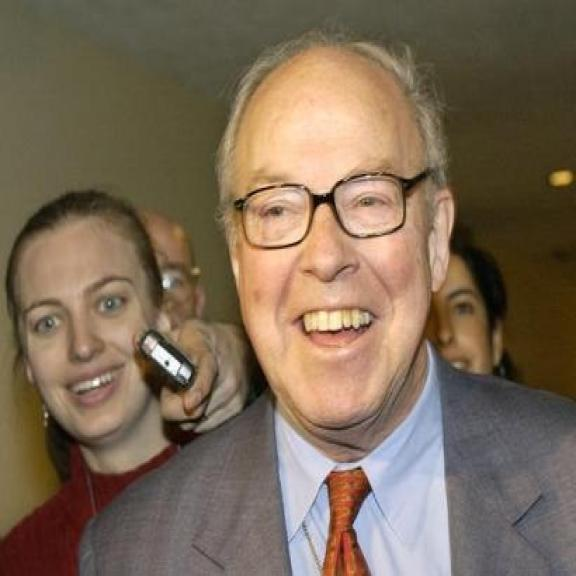face: (223, 69, 453, 429), (15, 230, 166, 439)
